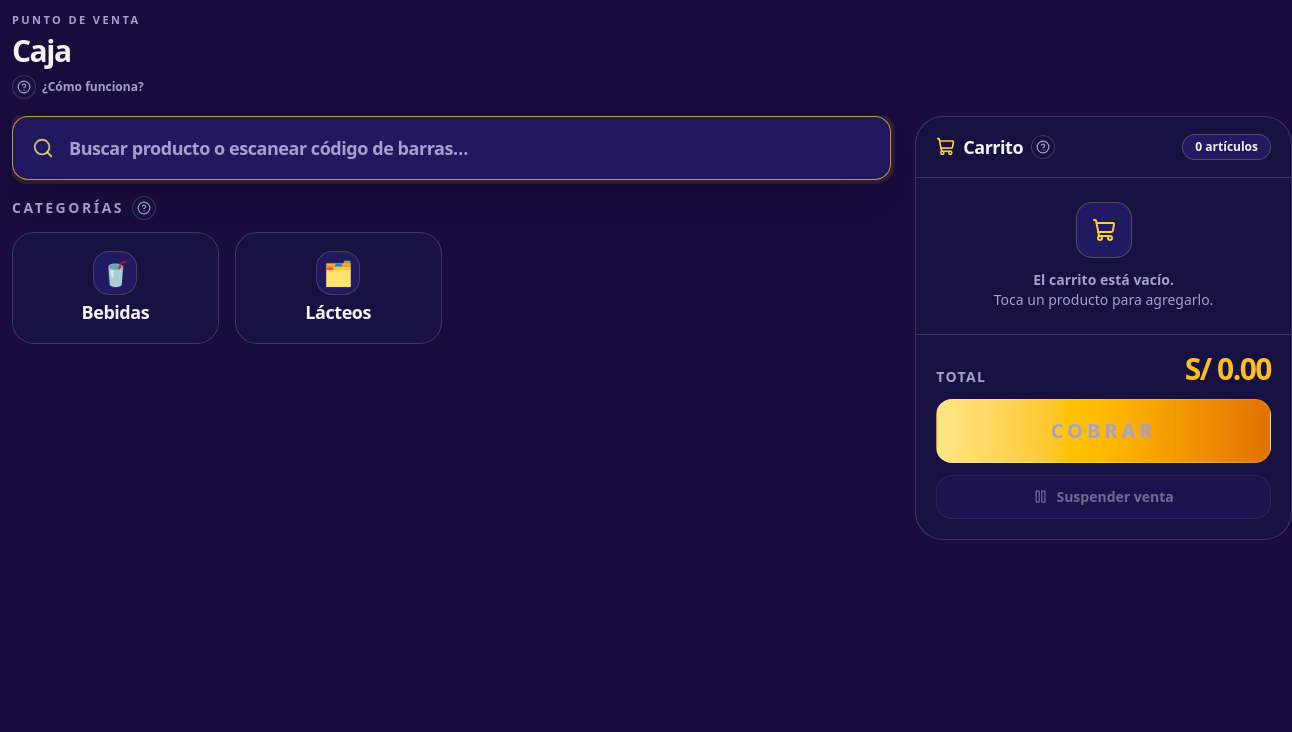
Test: PosPage › muestra los productos disponibles dentro de su categoría
Check: the button "🗂️ Lácteos" is shown, box [235,232,442,344]
Check: the text "Gaseosa Inca Kola" is not shown
Click the button "🥤 Bebidas": [115, 288] box [12,232,219,344]
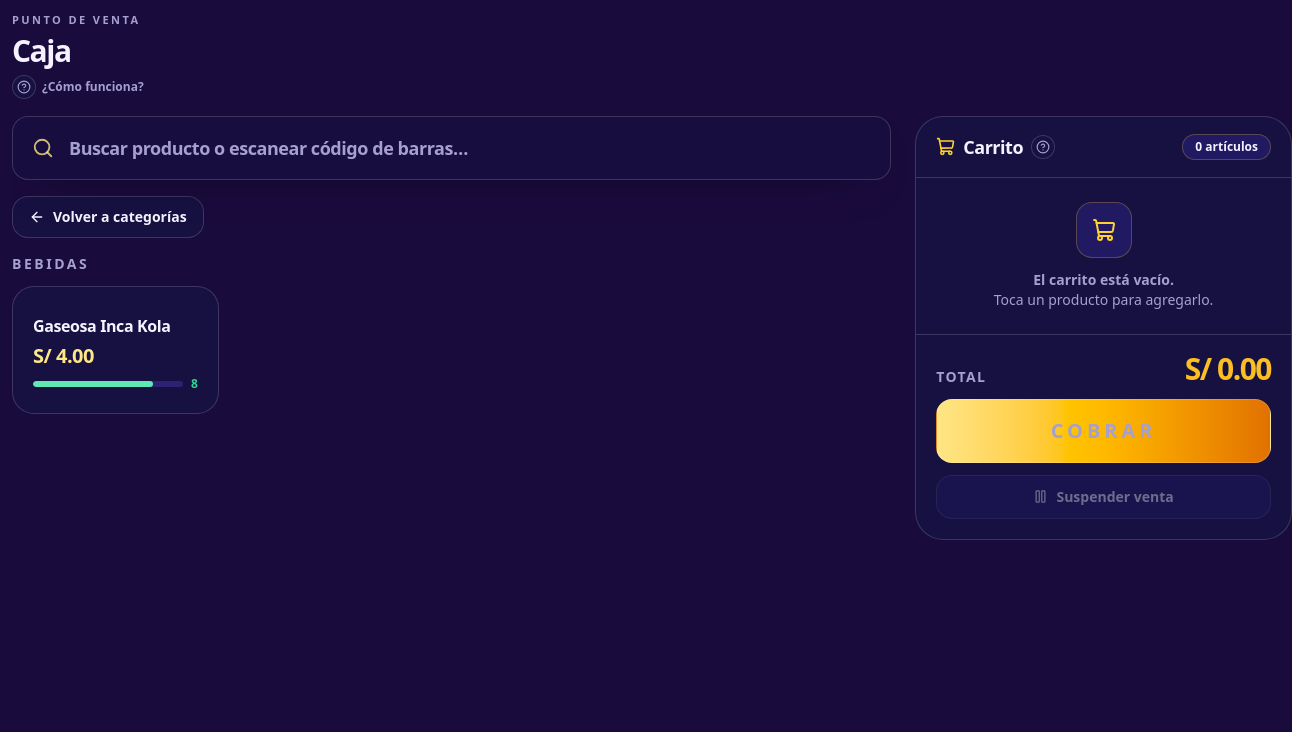
Check: the text "Gaseosa Inca Kola" is shown, box [33,316,170,336]
